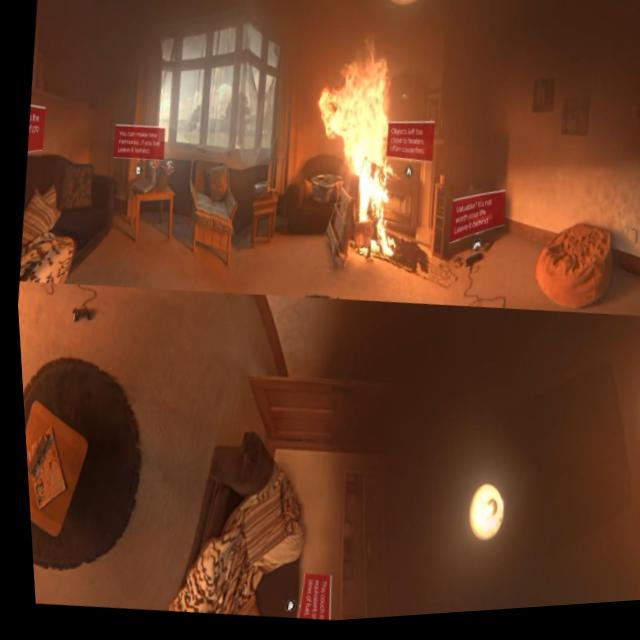fire: (292, 36, 414, 267)
